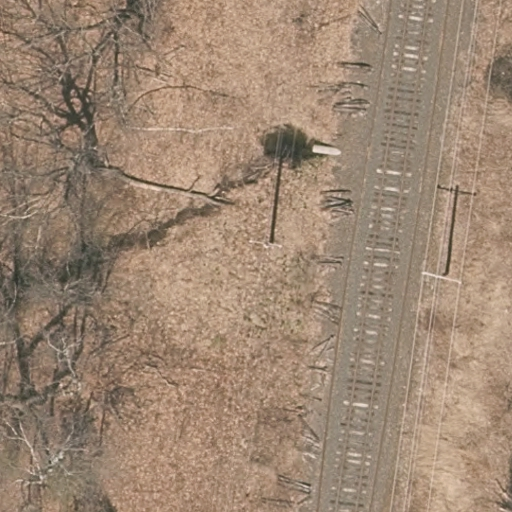DT: (424, 270, 463, 287)
